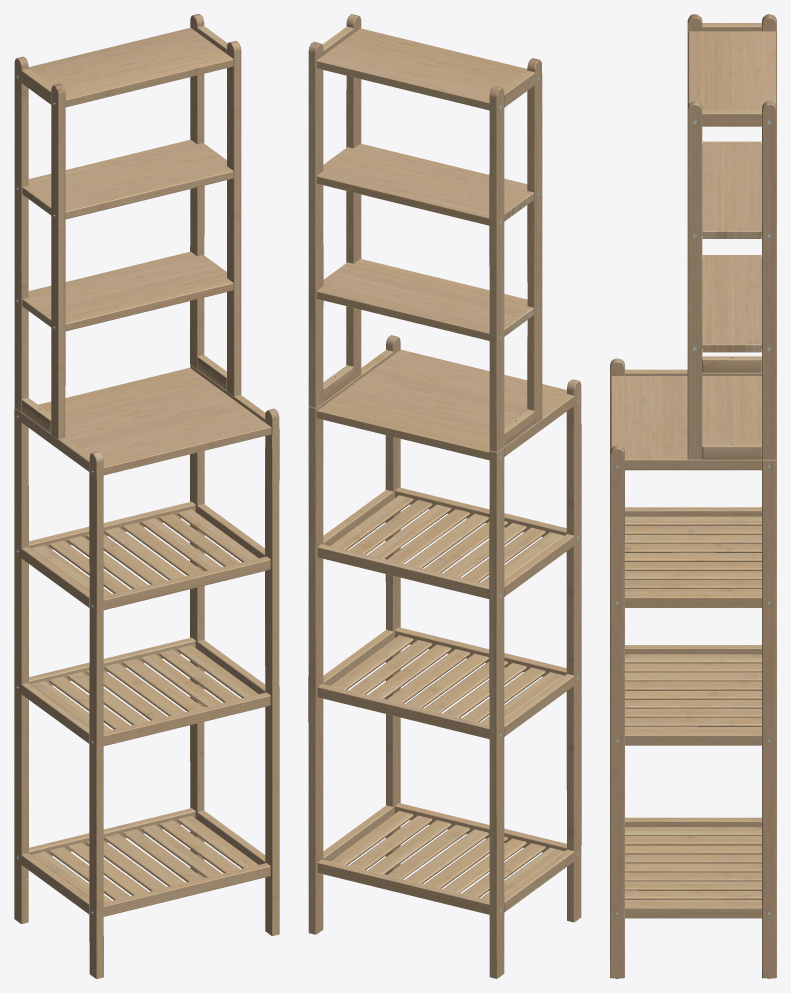
File: stegesund_rega_20632021.glb
3 views of the same model, side by side, from view 1: azimuth 30°, elevation 25°; view 2: azimuth 150°, elevation 25°; view 3: azimuth 270°, elevation 25° (orthographic). The views are drawn at different scales.
Visible parts, largest first — view 1: stegesund_rega_20632021; view 2: stegesund_rega_20632021; view 3: stegesund_rega_20632021.
Part boxes in pixels (x1,y1,x2,y2): stegesund_rega_20632021: [14, 14, 279, 978]; stegesund_rega_20632021: [308, 14, 581, 978]; stegesund_rega_20632021: [610, 14, 776, 978].
Size of the model in its own units: 0.3602 by 1.62 by 0.2802.
1 material, 1 textured.
